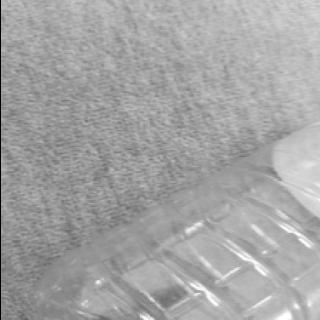plastic_bottles: (31, 93, 320, 317)
